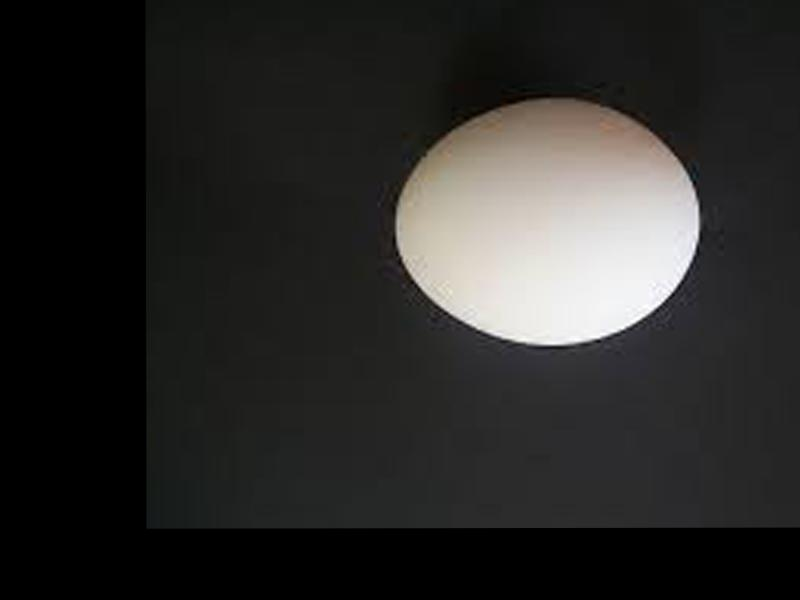Eggs: (392, 100, 692, 345)
